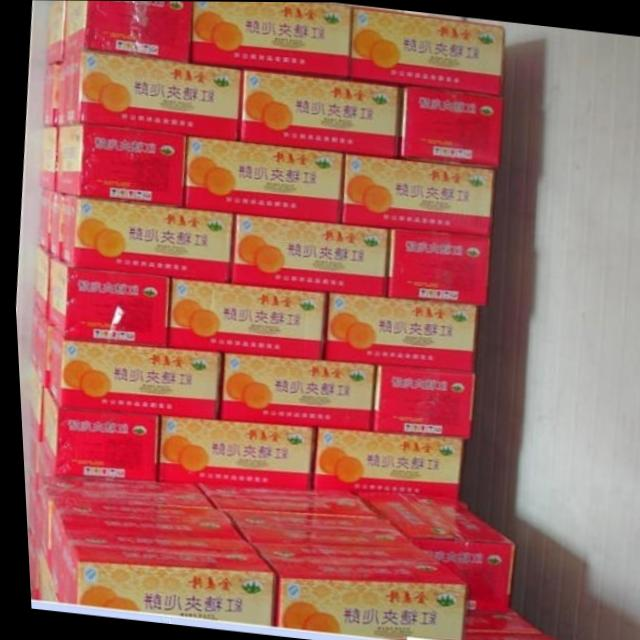box: (242, 540, 460, 640), (51, 529, 268, 626), (346, 487, 509, 613), (42, 499, 240, 596), (40, 322, 220, 419), (55, 49, 243, 140), (30, 475, 210, 566), (56, 193, 232, 282), (238, 67, 400, 157), (182, 135, 342, 222), (348, 7, 503, 94), (226, 213, 388, 296), (164, 276, 325, 359), (189, 1, 352, 79), (339, 152, 492, 235), (215, 351, 372, 430), (320, 291, 473, 371), (35, 385, 156, 483), (153, 415, 312, 489), (52, 123, 186, 207), (43, 258, 166, 348), (307, 426, 457, 497), (395, 85, 502, 168), (383, 227, 487, 306), (366, 363, 471, 438), (62, 0, 191, 61), (217, 509, 416, 547), (190, 481, 380, 517), (22, 529, 52, 601), (456, 610, 536, 632), (30, 245, 52, 322), (22, 360, 39, 444), (44, 0, 65, 65), (35, 126, 56, 191), (25, 305, 42, 385), (23, 429, 48, 475), (45, 191, 61, 258), (42, 61, 57, 126), (454, 630, 550, 640), (35, 188, 50, 252), (21, 468, 33, 537)
